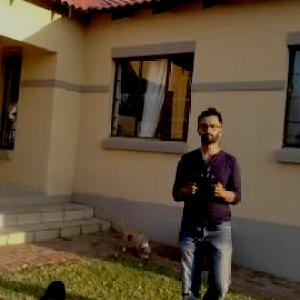follow: (160, 102, 246, 299)
null: (110, 206, 154, 262), (30, 277, 68, 299)
